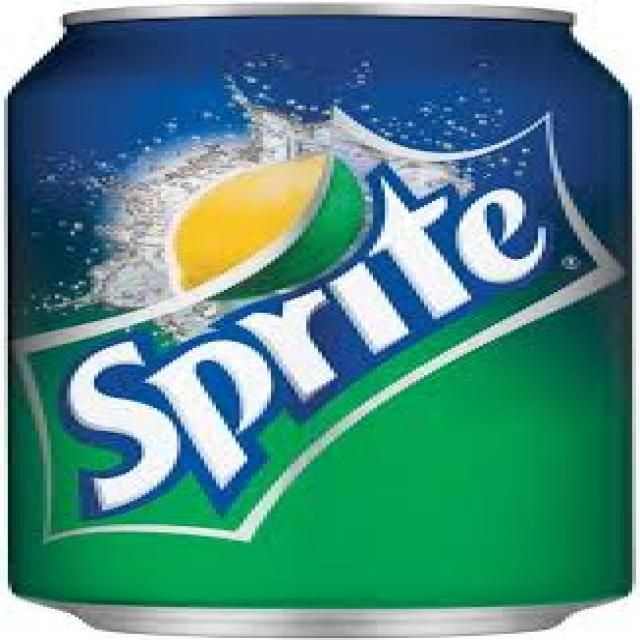recyclable: (3, 3, 639, 638)
